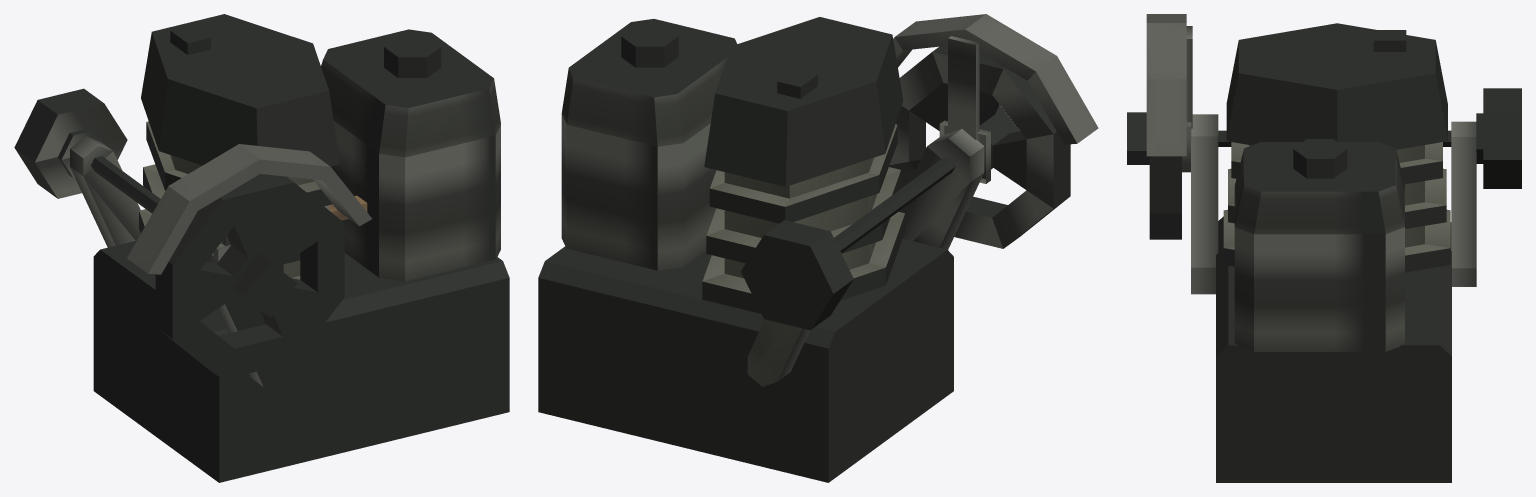
File: diesel.obj
3 views of the same model, side by side, from view 1: azimuth 30°, elevation 25°; view 2: azimuth 150°, elevation 25°; view 3: azimuth 270°, elevation 25° (orthographic). The views are drawn at different scales.
Visible parts, largest first — view 1: element_24, element_27, element_31, element_26, element_30, element_59, element_25, element_32, element_28, element_29; view 2: element_24, element_27, element_26, element_30, element_31, element_25, element_59, element_28, element_29; view 3: element_24, element_27, element_26, element_30, element_25, element_59, element_31, element_28, element_32, element_29.
Boxes of the visible parts, <box> form: element_24: <box>93,240,509,482</box>; element_27: <box>321,29,500,281</box>; element_31: <box>91,156,344,379</box>; element_26: <box>141,14,339,177</box>; element_30: <box>58,127,371,394</box>; element_59: <box>14,88,127,198</box>; element_25: <box>139,121,332,279</box>; element_32: <box>232,253,297,317</box>; element_28: <box>384,36,441,77</box>; element_29: <box>170,25,210,54</box>; element_24: <box>538,239,953,482</box>; element_27: <box>561,19,736,270</box>; element_26: <box>704,17,903,186</box>; element_30: <box>747,14,1098,386</box>; element_31: <box>834,45,1070,253</box>; element_25: <box>702,124,904,313</box>; element_59: <box>741,220,853,330</box>; element_28: <box>621,26,678,67</box>; element_29: <box>777,69,817,98</box>; element_24: <box>1216,216,1451,482</box>; element_27: <box>1234,142,1404,351</box>; element_26: <box>1226,23,1447,149</box>; element_30: <box>1146,14,1483,294</box>; element_25: <box>1223,142,1450,272</box>; element_59: <box>1483,88,1521,188</box>; element_31: <box>1149,130,1451,239</box>; element_28: <box>1293,139,1347,178</box>; element_32: <box>1127,112,1149,164</box>; element_29: <box>1373,30,1406,51</box>.
Size of the model in its own units: 0.475 by 0.4044 by 0.4209.
